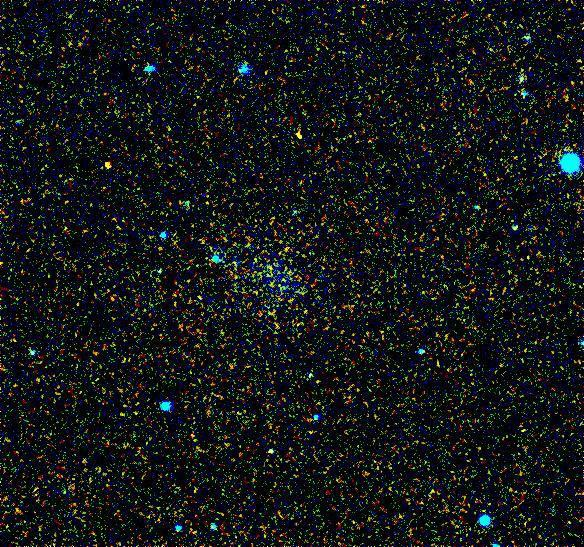star: (93, 150, 123, 180)
